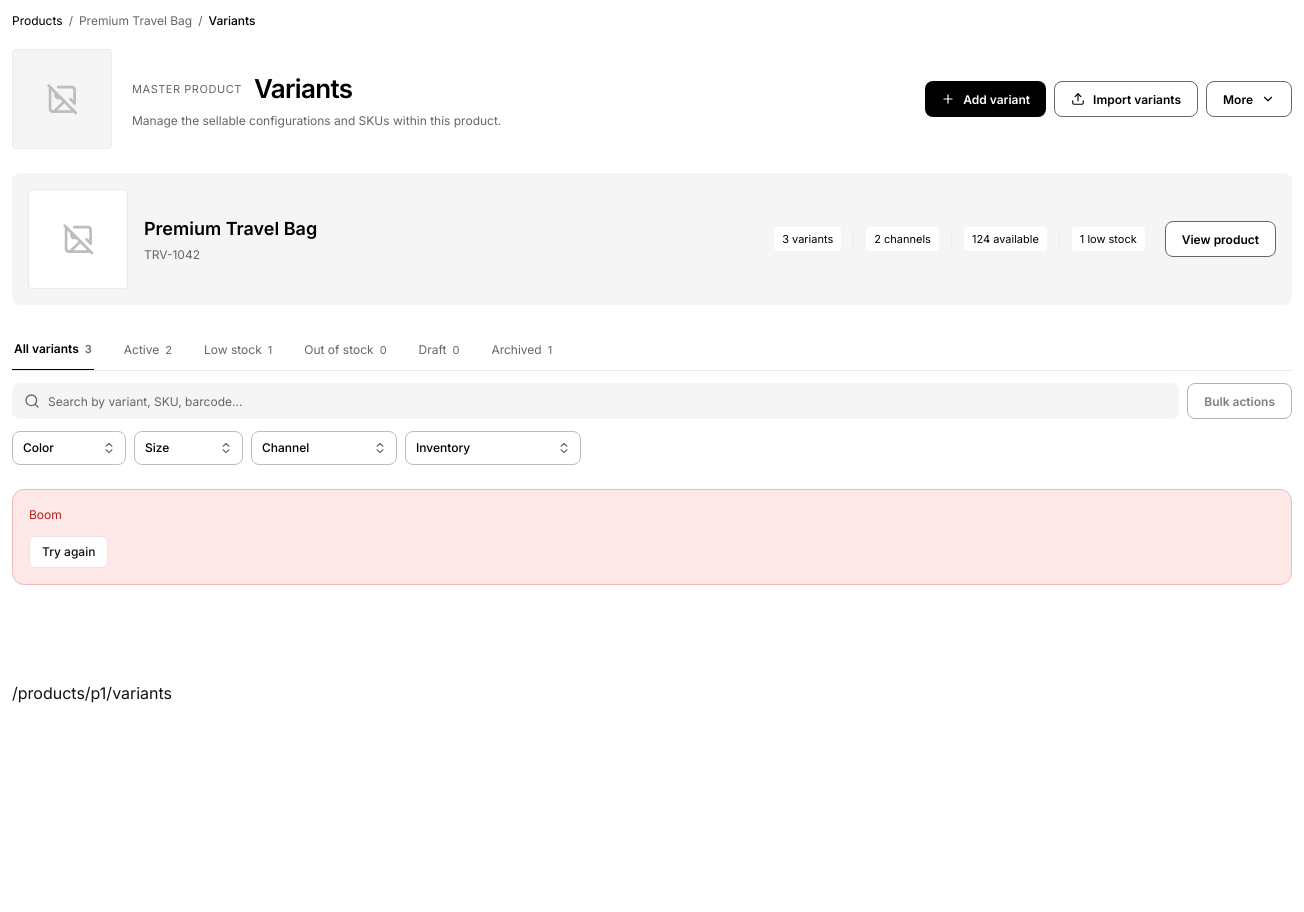
Scenario: VariantsPage: the real grid › shows an error with retry when the grid fails
expect the text "Boom" is shown: met, box [29, 506, 62, 524]
Click the button "Try again" at (69, 552), box [29, 536, 108, 568]
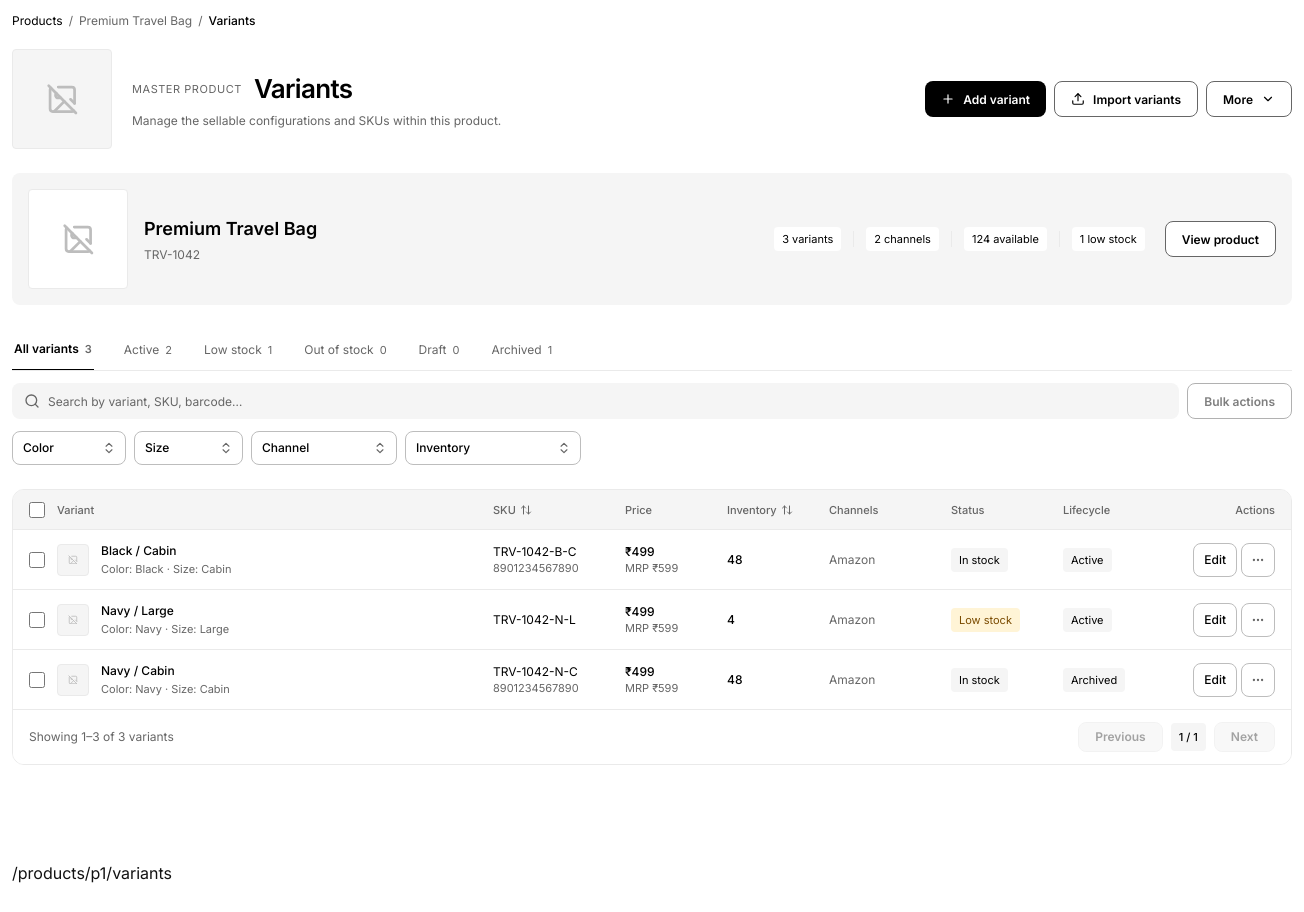
expect the text "TRV-1042-B-C" is shown: met, box [493, 544, 577, 558]
